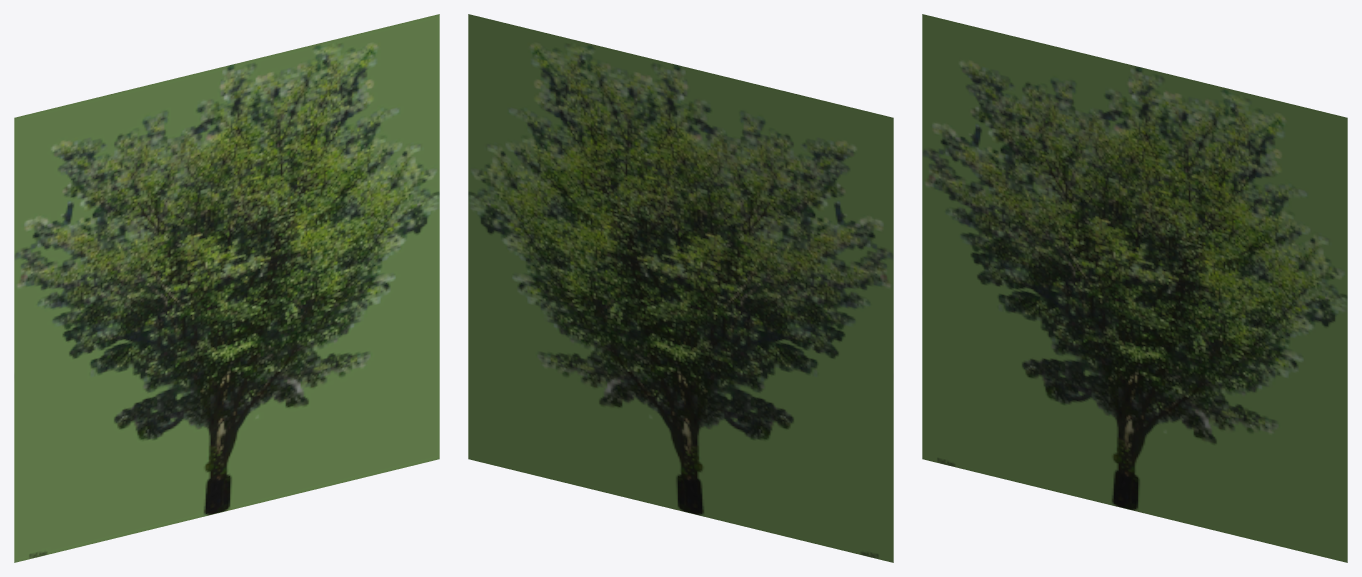
The model's file is env_tree08.FBX.
3 renders of one model, left to right at view 1: azimuth 30°, elevation 25°; view 2: azimuth 150°, elevation 25°; view 3: azimuth 330°, elevation 25°, orthographic.
Parts seen in each view (by area): view 1: env_tree08; view 2: env_tree08; view 3: env_tree08.
Part boxes in pixels (<box>): env_tree08: <box>14,14,439,562</box>; env_tree08: <box>468,14,893,562</box>; env_tree08: <box>922,14,1347,562</box>.
Size of the model in its own units: 7.62 by 7.62 by 1.24e-06.
Materials: 1 (1 with a texture image).
